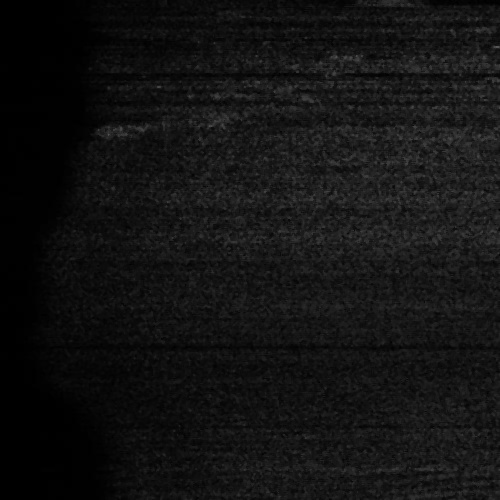object: (341, 0, 414, 3)
shadow: (378, 0, 500, 3)
